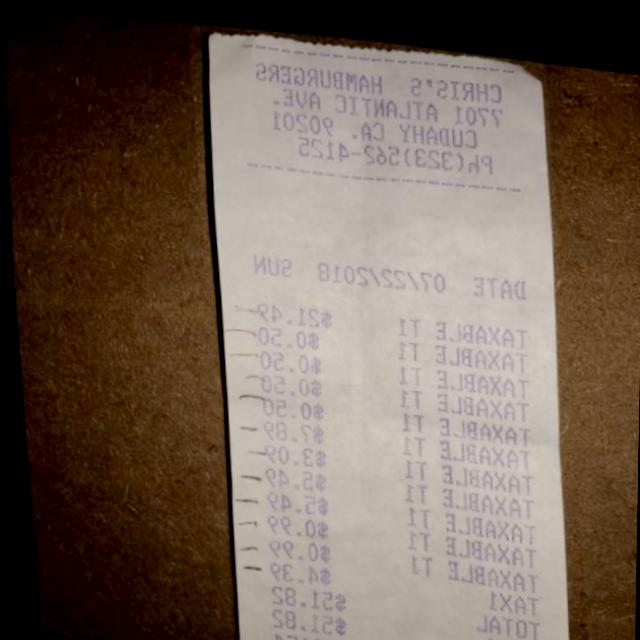Paper: (173, 10, 596, 640)
